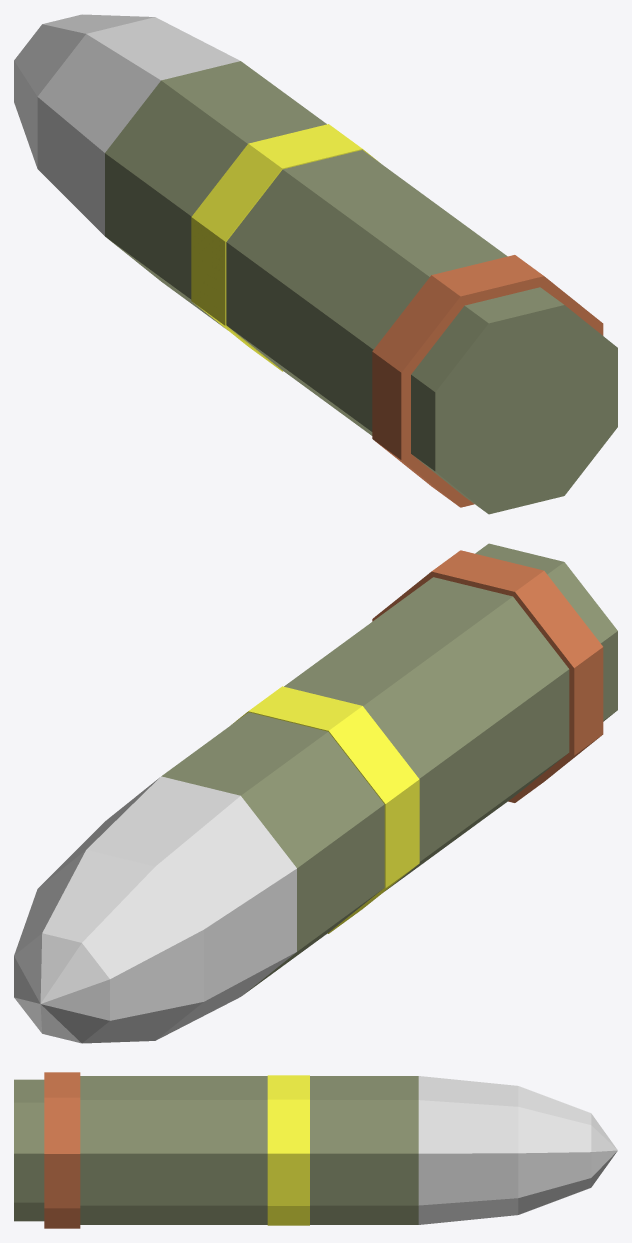
File: ce_ammo_artillery_he_a.obj
3 views of the same model, one above another, from view 1: azimuth 30°, elevation 25°; view 2: azimuth 150°, elevation 25°; view 3: azimuth 270°, elevation 25° (orthographic). The views are drawn at different scales.
Parts seen in each view (by area): view 1: ce_ammo_artillery_he_a_2, ce_ammo_artillery_he_a_0, ce_ammo_artillery_he_a_4, ce_ammo_artillery_he_a_5, ce_ammo_artillery_he_a_1, ce_ammo_artillery_he_a_3, ce_ammo_artillery_he_a_6; view 2: ce_ammo_artillery_he_a_2, ce_ammo_artillery_he_a_5, ce_ammo_artillery_he_a_4, ce_ammo_artillery_he_a_6, ce_ammo_artillery_he_a_1, ce_ammo_artillery_he_a_3, ce_ammo_artillery_he_a_7, ce_ammo_artillery_he_a_0; view 3: ce_ammo_artillery_he_a_2, ce_ammo_artillery_he_a_4, ce_ammo_artillery_he_a_5, ce_ammo_artillery_he_a_6, ce_ammo_artillery_he_a_3, ce_ammo_artillery_he_a_1, ce_ammo_artillery_he_a_0, ce_ammo_artillery_he_a_7.
Boxes of the visible parts, x1=… form: ce_ammo_artillery_he_a_2: x1=226, y1=150, x2=507, y2=435; ce_ammo_artillery_he_a_0: x1=411, y1=287, x2=617, y2=514; ce_ammo_artillery_he_a_4: x1=105, y1=61, x2=326, y2=328; ce_ammo_artillery_he_a_5: x1=37, y1=17, x2=239, y2=235; ce_ammo_artillery_he_a_1: x1=372, y1=255, x2=603, y2=507; ce_ammo_artillery_he_a_3: x1=191, y1=124, x2=380, y2=371; ce_ammo_artillery_he_a_6: x1=14, y1=14, x2=154, y2=168; ce_ammo_artillery_he_a_2: x1=284, y1=577, x2=569, y2=890; ce_ammo_artillery_he_a_5: x1=39, y1=776, x2=296, y2=1040; ce_ammo_artillery_he_a_4: x1=161, y1=712, x2=384, y2=994; ce_ammo_artillery_he_a_6: x1=14, y1=850, x2=203, y2=1043; ce_ammo_artillery_he_a_1: x1=372, y1=550, x2=603, y2=802; ce_ammo_artillery_he_a_3: x1=231, y1=686, x2=419, y2=933; ce_ammo_artillery_he_a_7: x1=14, y1=933, x2=109, y2=1043; ce_ammo_artillery_he_a_0: x1=475, y1=543, x2=617, y2=721; ce_ammo_artillery_he_a_2: x1=80, y1=1076, x2=267, y2=1224; ce_ammo_artillery_he_a_4: x1=310, y1=1076, x2=418, y2=1224; ce_ammo_artillery_he_a_5: x1=418, y1=1076, x2=518, y2=1224; ce_ammo_artillery_he_a_6: x1=518, y1=1086, x2=591, y2=1214; ce_ammo_artillery_he_a_3: x1=267, y1=1075, x2=309, y2=1225; ce_ammo_artillery_he_a_1: x1=44, y1=1072, x2=80, y2=1228; ce_ammo_artillery_he_a_0: x1=14, y1=1079, x2=44, y2=1221; ce_ammo_artillery_he_a_7: x1=591, y1=1113, x2=617, y2=1187.
Size of the model in its own units: 0.2134 by 0.2134 by 0.89.
